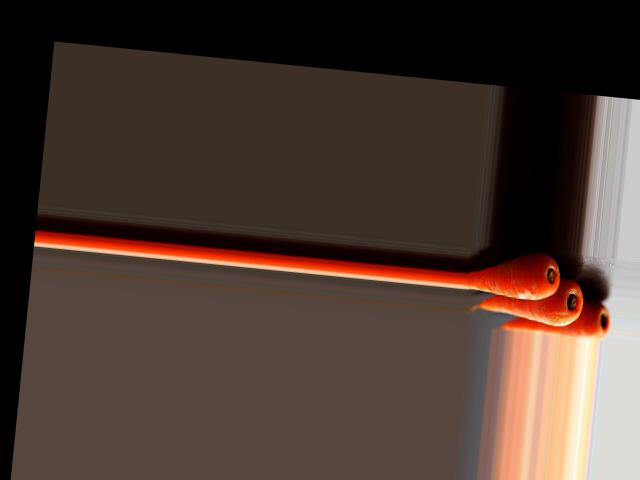carrot: (501, 288, 598, 339)
